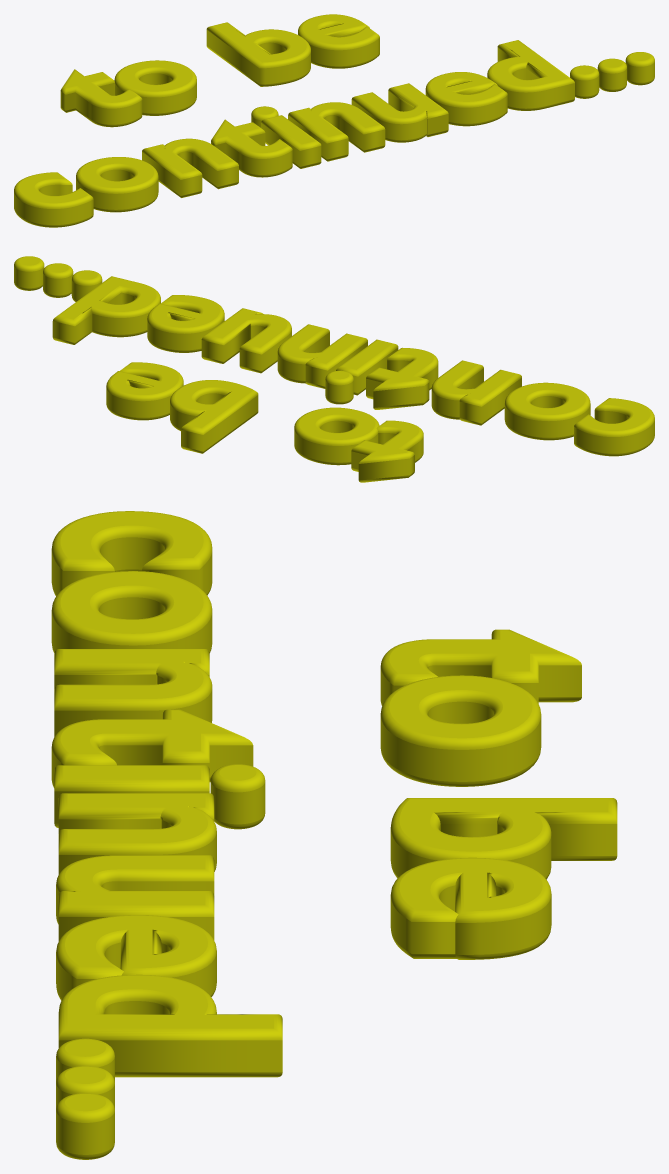
File: ending_door.fbx
The picture shows the model from 3 angles, top to bottom: view 1: azimuth 30°, elevation 25°; view 2: azimuth 150°, elevation 25°; view 3: azimuth 270°, elevation 25°; orthographic projection. The views are drawn at different scales.
Visible parts, largest first — view 1: Cube.001, Text.002; view 2: Cube.001, Text.002; view 3: Cube.001, Text.002.
Boxes of the visible parts, x1,y1,x2,y2 form: Cube.001: [206, 14, 654, 161]; Text.002: [14, 60, 321, 227]; Cube.001: [14, 256, 367, 453]; Text.002: [294, 339, 654, 482]; Cube.001: [56, 793, 617, 1159]; Text.002: [51, 511, 581, 829].
Size of the model in its own units: 488 by 23.28 by 193.
